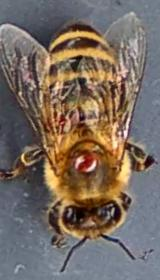varroa_mite: (37, 100, 80, 136), (63, 143, 105, 178)
